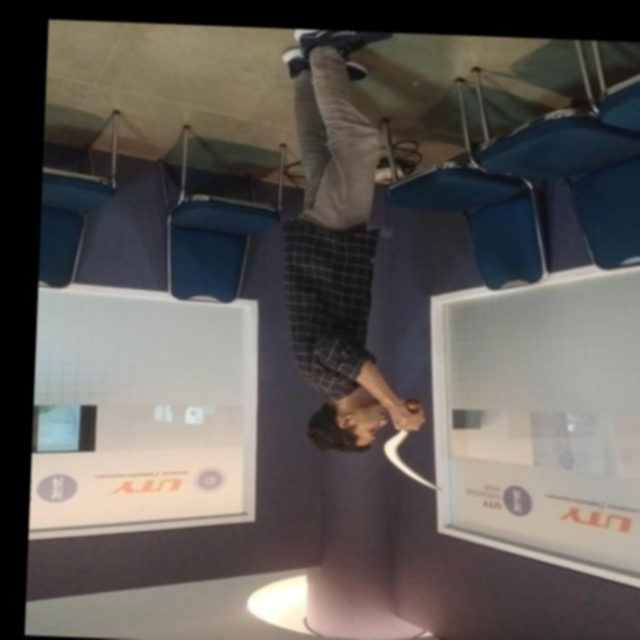Sharp-Object: (381, 397, 446, 494)
